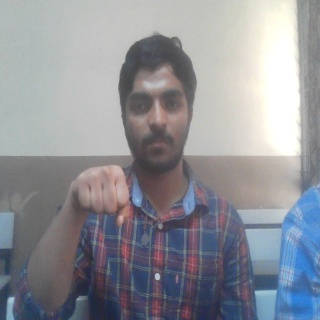Face: (118, 34, 199, 160)
Yes: (71, 164, 132, 226)
